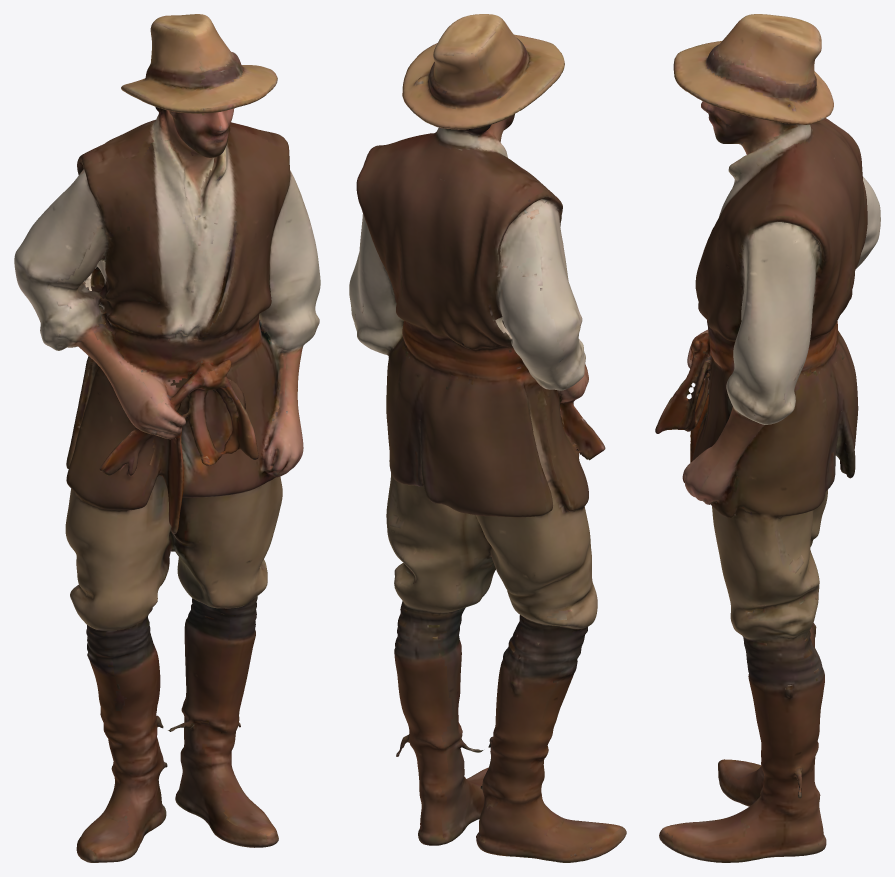
Rendered from humanpeasant1.glb.
3 views of the same model, side by side, from view 1: azimuth 30°, elevation 25°; view 2: azimuth 150°, elevation 25°; view 3: azimuth 270°, elevation 25° (orthographic).
Size of the model in its own units: 0.6724 by 1.99 by 0.4975.
1 material, 1 textured.
